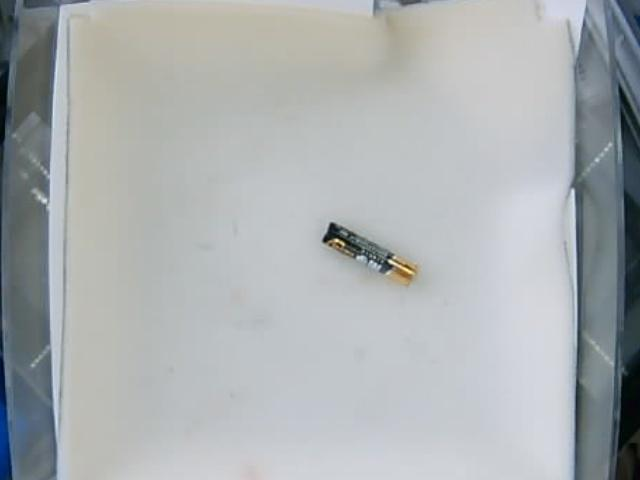Battery: (320, 221, 418, 288)
